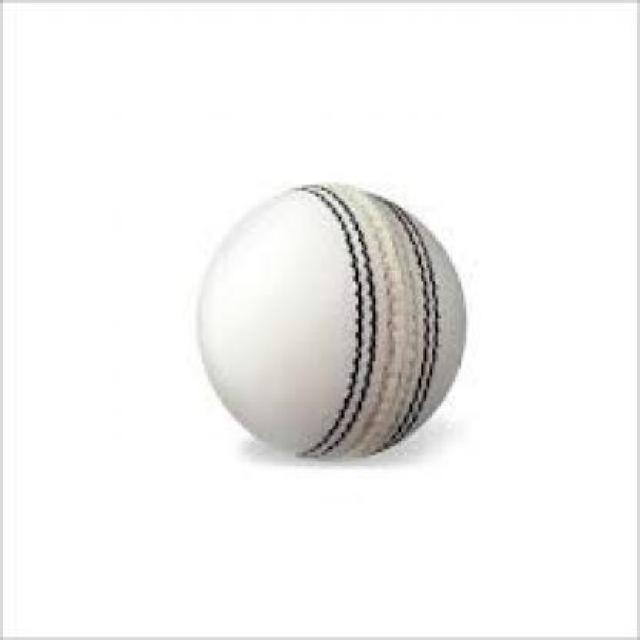ball: (172, 144, 509, 523)
